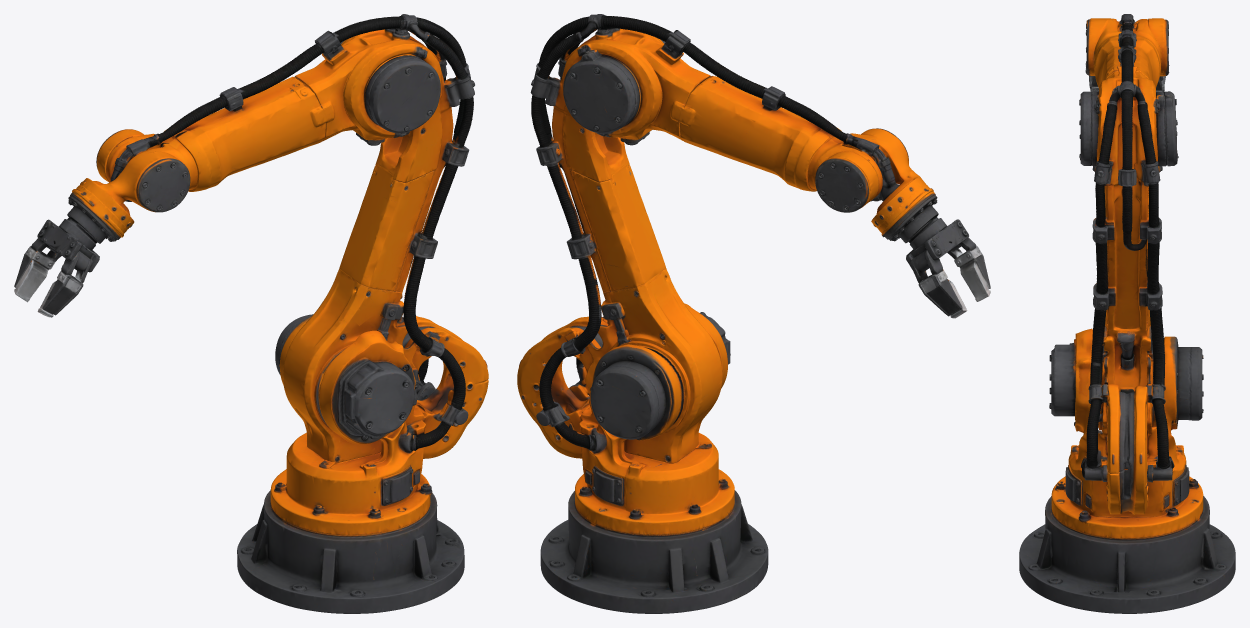
Rendered from robot-arm.glb.
The picture shows the model from 3 angles, left to right: view 1: azimuth 30°, elevation 25°; view 2: azimuth 150°, elevation 25°; view 3: azimuth 270°, elevation 25°; orthographic projection. The views are drawn at different scales.
Visible parts, largest first — view 1: robot-arm; view 2: robot-arm; view 3: robot-arm.
Boxes of the visible parts, box(x1,y1,x2,y2) form: robot-arm: box(14, 14, 488, 613); robot-arm: box(517, 14, 990, 613); robot-arm: box(1019, 14, 1235, 613).
Bounding box in the file's own units: 1.75 × 2 × 0.7609.
1 material, 1 textured.
